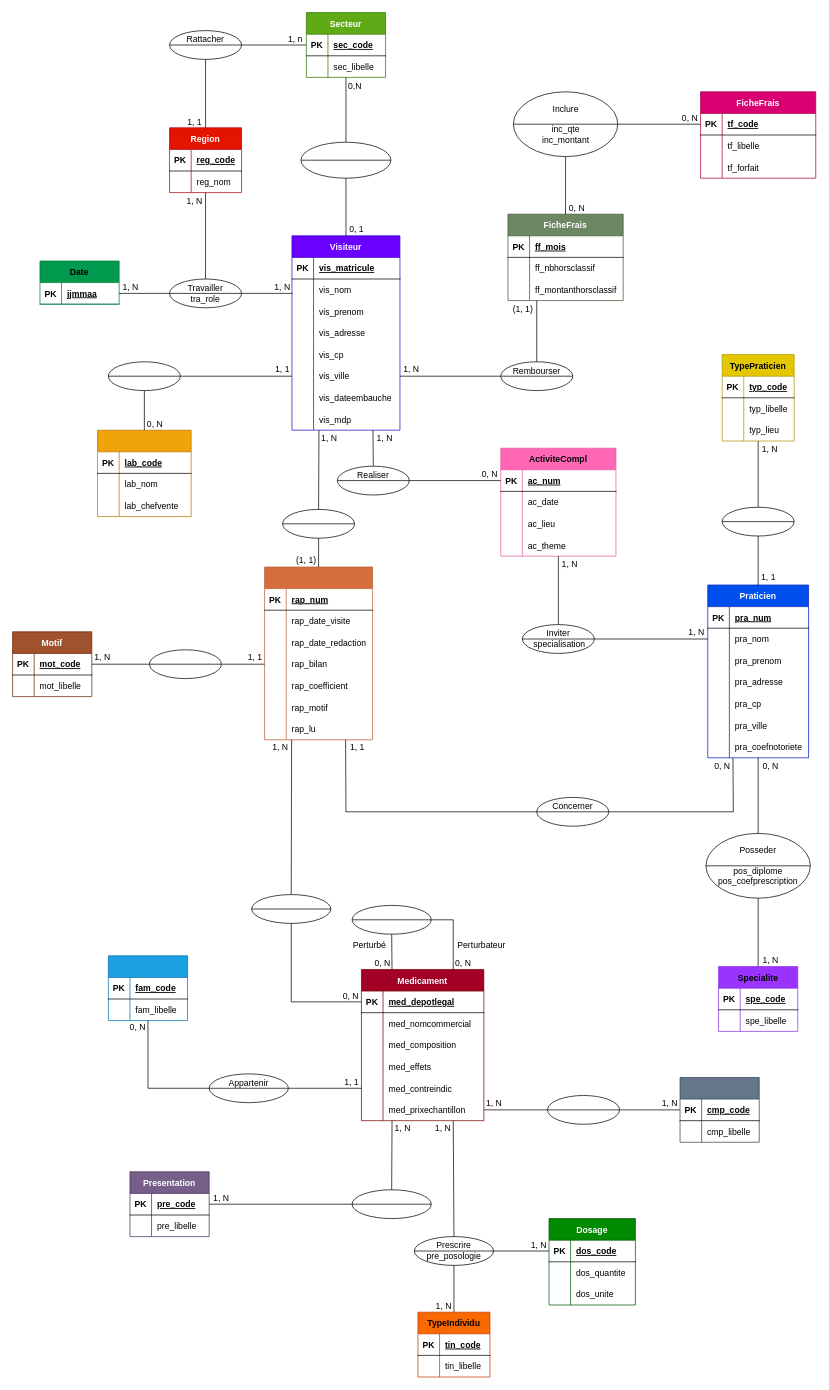
This 829x1390 diagram has some shape labels left out. The box of each missing label's shape, as (x1, y1, x2, y2) in pixels:
avoir: (149, 649, 221, 679)
Composant: (679, 1077, 759, 1142)
Constituer cst_qte: (547, 1095, 620, 1124)
Dependre: (108, 361, 180, 391)
Etre Responsable: (300, 141, 391, 178)
Famille: (108, 955, 188, 1021)
Formuler: (351, 1189, 431, 1219)
Interagir: (351, 905, 431, 934)
Laboratoire: (97, 429, 191, 517)
Offrir off_qte: (251, 894, 331, 923)
RapportVisite: (264, 566, 373, 740)
Rediger: (282, 509, 355, 538)
Relever: (721, 507, 794, 536)
